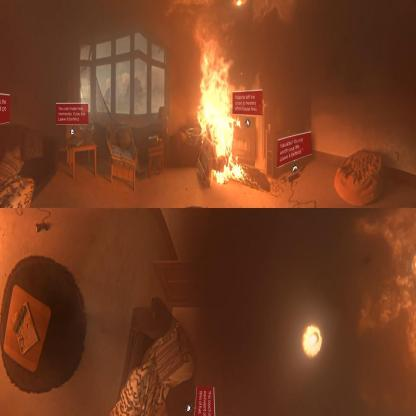fire: (193, 12, 245, 181)
